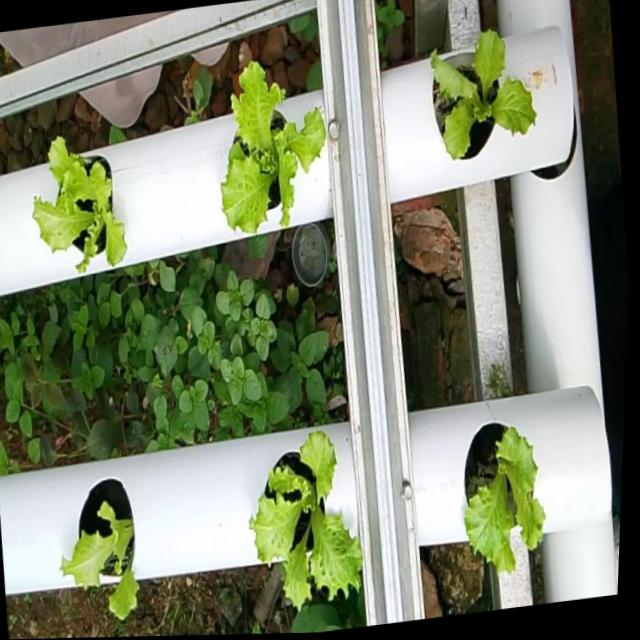Baby: (249, 427, 361, 608), (223, 59, 328, 231), (432, 30, 538, 161), (36, 130, 129, 266), (463, 422, 543, 572), (62, 468, 139, 608)
